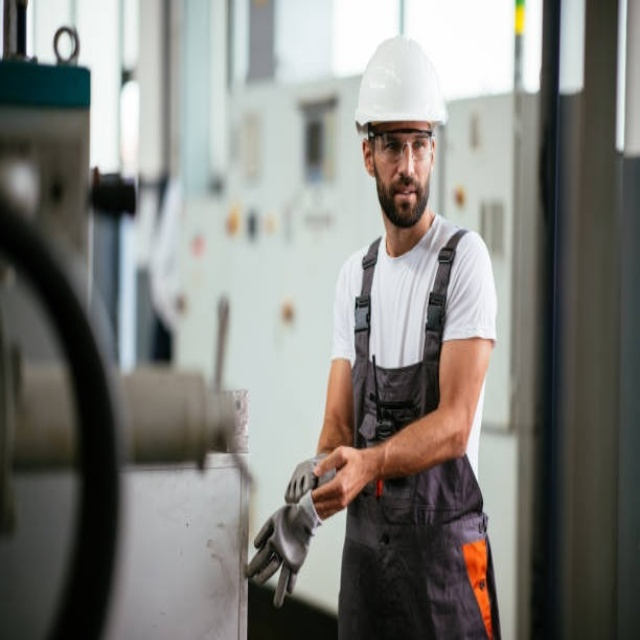Gafas: (370, 131, 434, 164)
Guantes: (245, 488, 318, 605), (285, 452, 336, 499)
Sin_guantes: (315, 439, 376, 519)
Sin_mascara: (390, 179, 421, 220)
